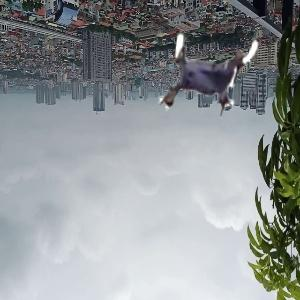drone: (157, 21, 263, 127)
